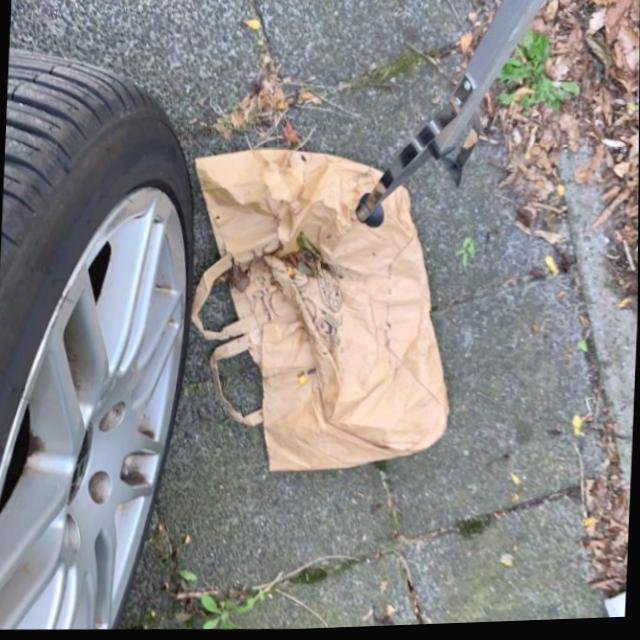Paper: (178, 139, 462, 484)
